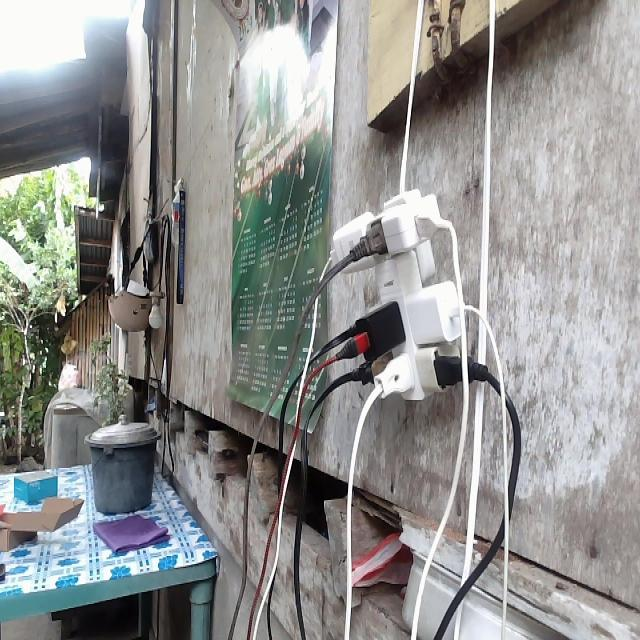-: (324, 187, 477, 404)
